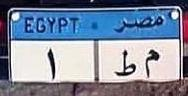1: (44, 46, 59, 83)
Taa: (112, 45, 138, 80)
meem: (142, 45, 162, 79)
